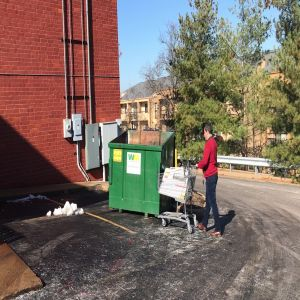Dumpster: (106, 128, 160, 219)
Person: (192, 123, 230, 241)
